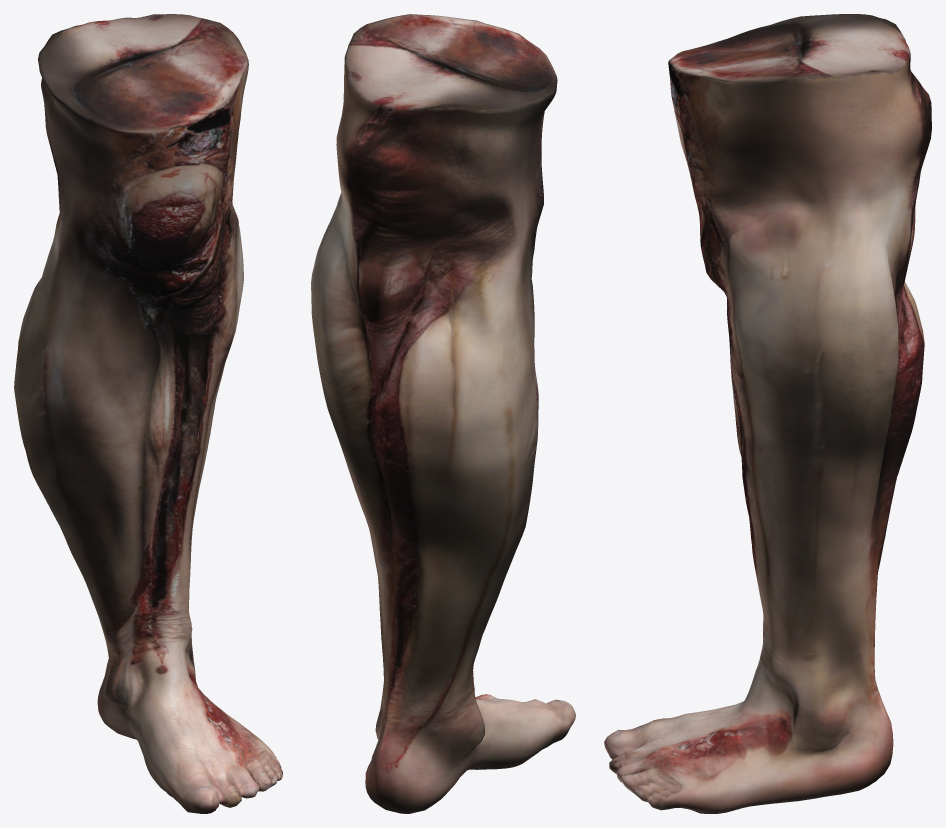
Rendered from wounded_leg__0217152848_texture.glb.
3 renders of one model, left to right at view 1: azimuth 30°, elevation 25°; view 2: azimuth 150°, elevation 25°; view 3: azimuth 270°, elevation 25°, orthographic. The views are drawn at different scales.
Bounding box in the file's own units: 0.5855 × 2 × 0.7937.
Materials: 1 (1 with a texture image).
